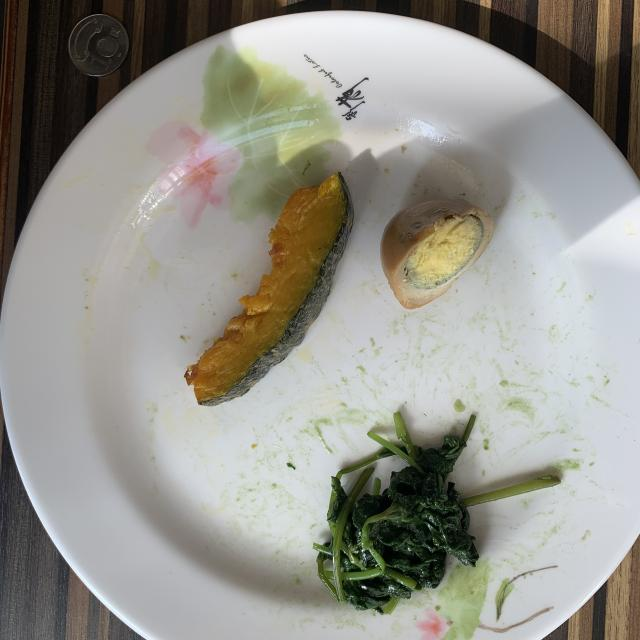coin: (69, 14, 129, 76)
pumpkin: (185, 174, 352, 405)
soy egg: (380, 199, 494, 309)
sweet potato leaves: (314, 412, 560, 614)
